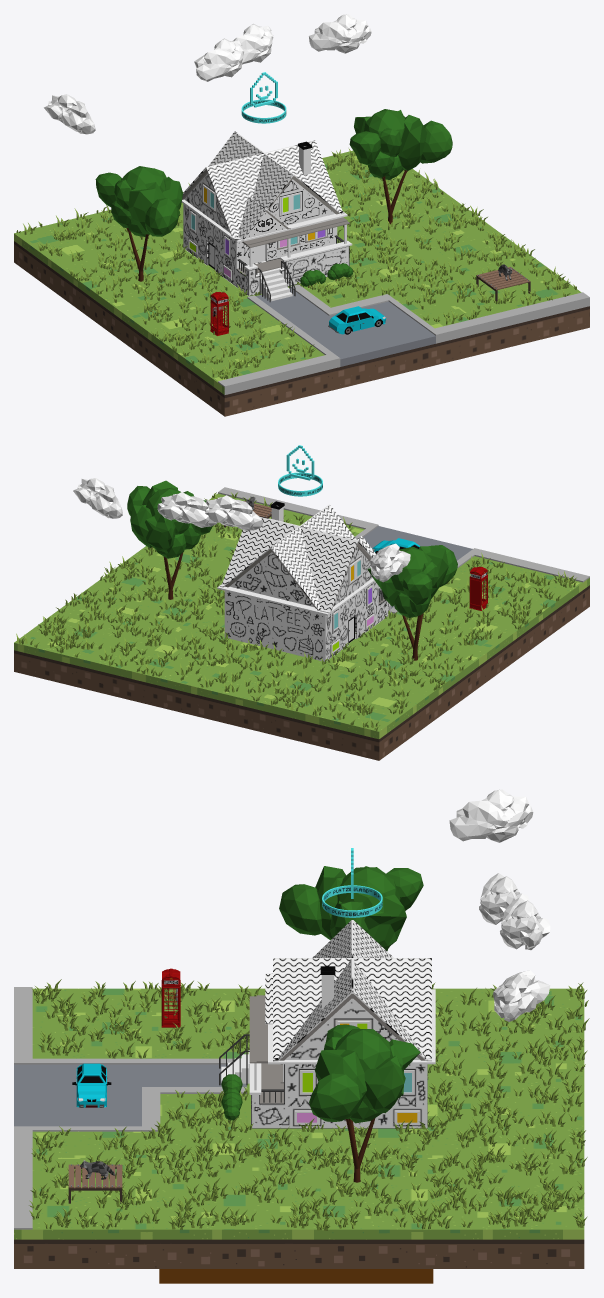
3 renders of one model, top to bottom at view 1: azimuth 30°, elevation 25°; view 2: azimuth 150°, elevation 25°; view 3: azimuth 270°, elevation 25°, orthographic. The views are drawn at different scales.
Visible parts, largest first — view 1: Cube.006, Cube.879, Circle.012_Grass_0.192, Cube.007, tree, tree.001, VEHICLES_CAR, TYPE_PREMIUM, Cube.009, OBJRANDOM_PHONEBOOTH; view 2: Cube.006, Cube.879, Circle.012_Grass_0.192, Cube.007, tree.001, tree, TYPE_PREMIUM, OBJRANDOM_PHONEBOOTH; view 3: Cube.006, Circle.012_Grass_0.192, Cube.879, tree, Cube.007, tree.001, UNDERGROUND_ART_PIECE_VAN_GOGH, VEHICLES_CAR, Cube.009, TYPE_PREMIUM, OBJRANDOM_PHONEBOOTH.
Part boxes in pixels (left/top/right/bottom): Cube.006: left=14, top=150, right=589, bottom=416; Cube.879: left=181, top=131, right=352, bottom=302; Circle.012_Grass_0.192: left=16, top=148, right=576, bottom=379; Cube.007: left=44, top=14, right=371, bottom=134; tree: left=349, top=109, right=452, bottom=224; tree.001: left=95, top=166, right=182, bottom=281; VEHICLES_CAR: left=328, top=306, right=386, bottom=334; TYPE_PREMIUM: left=241, top=72, right=286, bottom=123; Cube.009: left=476, top=267, right=530, bottom=301; OBJRANDOM_PHONEBOOTH: left=210, top=292, right=228, bottom=335; Cube.006: left=14, top=487, right=589, bottom=760; Cube.879: left=217, top=501, right=390, bottom=661; Circle.012_Grass_0.192: left=16, top=492, right=576, bottom=730; Cube.007: left=73, top=478, right=410, bottom=582; tree.001: left=367, top=545, right=457, bottom=660; tree: left=127, top=480, right=212, bottom=599; TYPE_PREMIUM: left=278, top=445, right=322, bottom=496; OBJRANDOM_PHONEBOOTH: left=469, top=566, right=488, bottom=610; Cube.006: left=14, top=987, right=584, bottom=1268; Circle.012_Grass_0.192: left=29, top=979, right=589, bottom=1230; Cube.879: left=219, top=920, right=435, bottom=1128; tree: left=309, top=1024, right=420, bottom=1182; Cube.007: left=449, top=789, right=550, bottom=1021; tree.001: left=279, top=866, right=423, bottom=950; UNDERGROUND_ART_PIECE_VAN_GOGH: left=159, top=1269, right=433, bottom=1283; VEHICLES_CAR: left=72, top=1063, right=111, bottom=1107; Cube.009: left=68, top=1164, right=122, bottom=1203; TYPE_PREMIUM: left=322, top=848, right=382, bottom=917; OBJRANDOM_PHONEBOOTH: left=161, top=968, right=180, bottom=1027.
Size of the model in its own units: 4071 by 2426 by 4040.
Materials: 47 (12 with a texture image).
